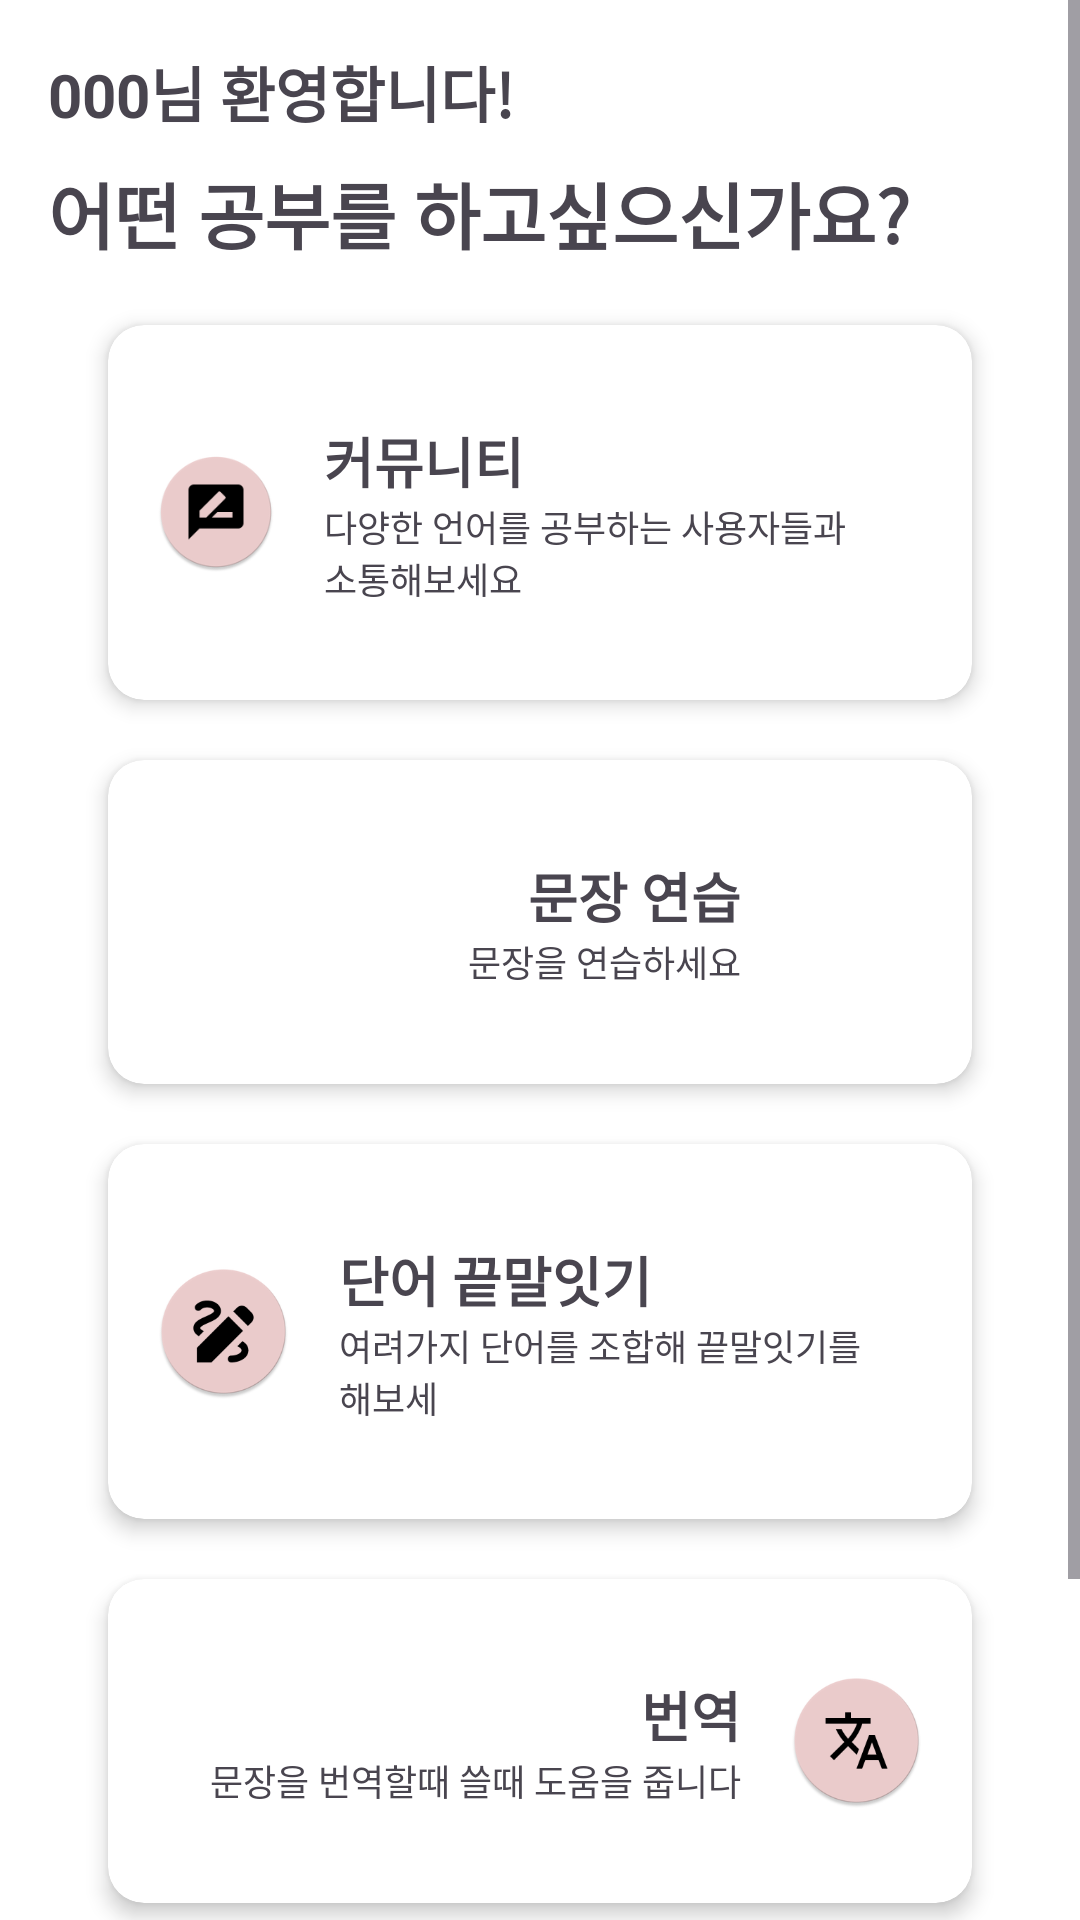

Icons on this 1080×1920 Android screen, each with the point to tap as [x,y]:
translate: [856,1742]
